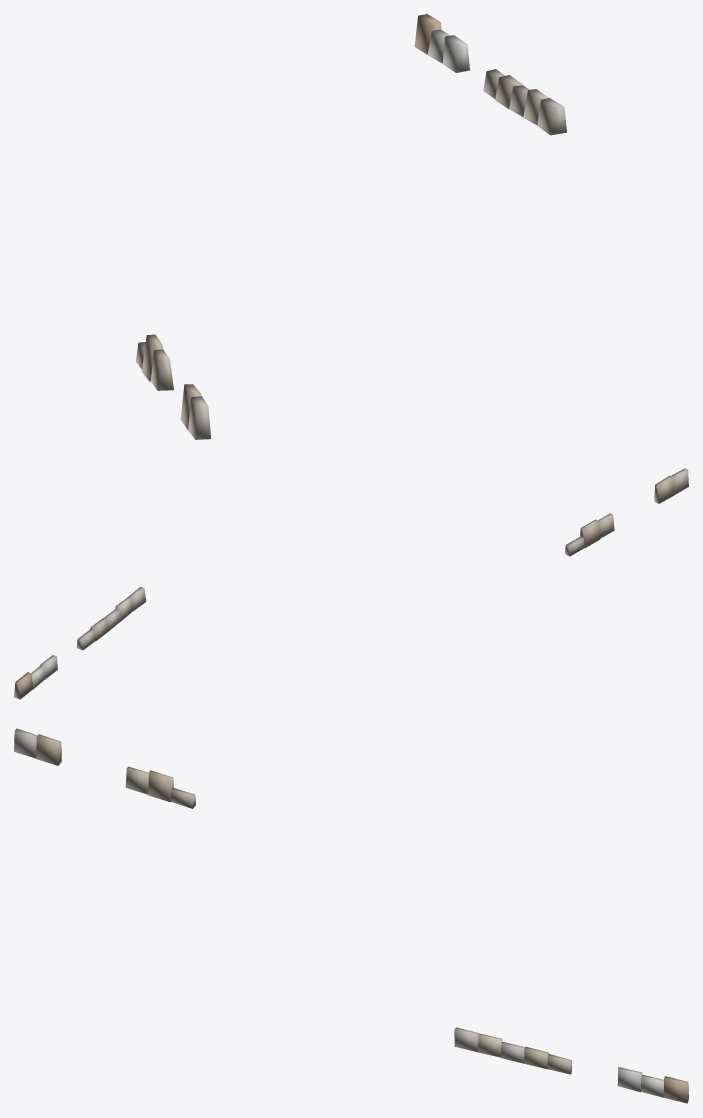
The model's file is farm_-34_-44_far.glb.
3 views of the same model, one above another, from view 1: azimuth 30°, elevation 25°; view 2: azimuth 150°, elevation 25°; view 3: azimuth 270°, elevation 25° (orthographic). The views are drawn at different scales.
Parts seen in each view (by area): view 1: geometry_0; view 2: geometry_0; view 3: geometry_0.
Part boxes in pixels (left/top/right/bottom): geometry_0: left=136, top=14, right=566, bottom=439; geometry_0: left=14, top=468, right=688, bottom=699; geometry_0: left=14, top=728, right=688, bottom=1103.
Bounding box in the file's own units: 35.07 × 10.13 × 43.08.
